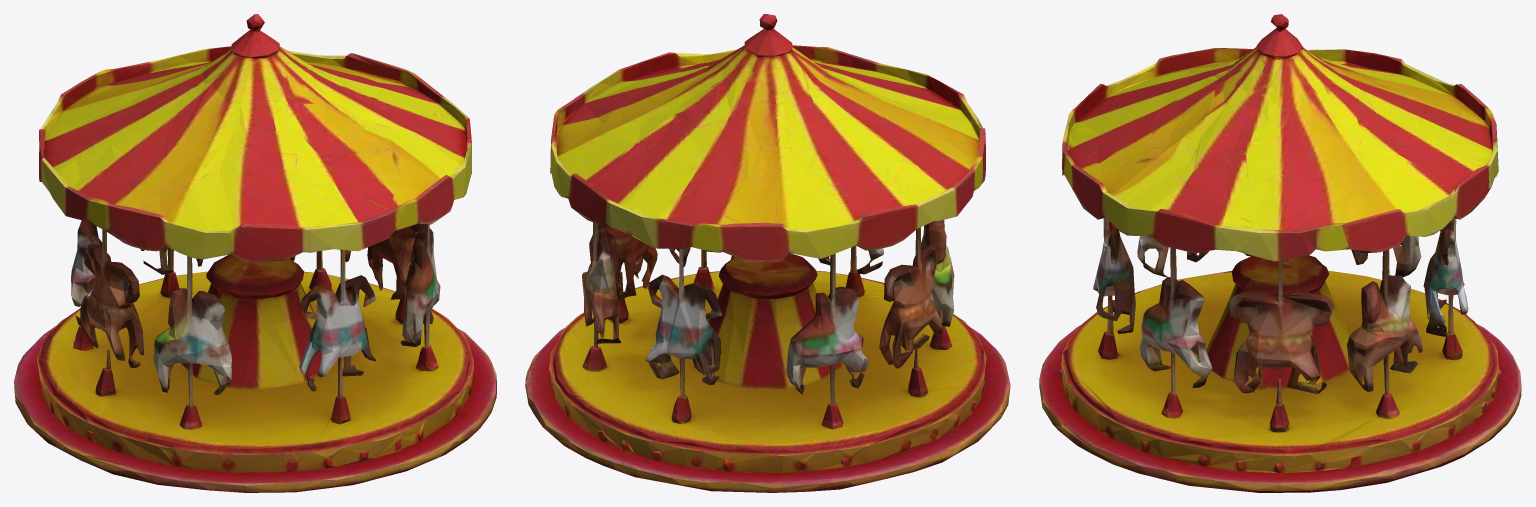
The model's file is carousel.glb.
The picture shows the model from 3 angles, left to right: view 1: azimuth 30°, elevation 25°; view 2: azimuth 150°, elevation 25°; view 3: azimuth 270°, elevation 25°; orthographic projection.
Parts seen in each view (by area): view 1: geometry_0; view 2: geometry_0; view 3: geometry_0.
Boxes of the visible parts, bbox=[...] form: geometry_0: bbox=[14, 14, 496, 492]; geometry_0: bbox=[525, 14, 1010, 492]; geometry_0: bbox=[1039, 14, 1521, 492].
Bounding box in the file's own units: 0.9973 × 0.8621 × 0.9963.
Materials: 1 (1 with a texture image).
